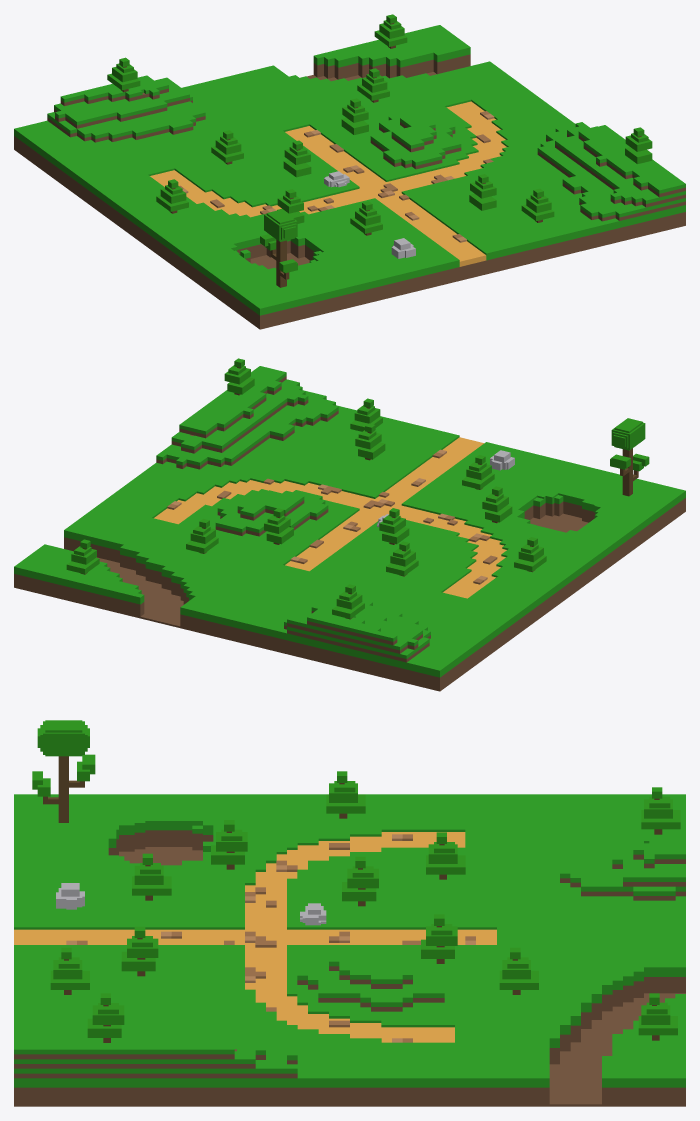
The model's file is background_village.glb.
The picture shows the model from 3 angles, top to bottom: view 1: azimuth 30°, elevation 25°; view 2: azimuth 150°, elevation 25°; view 3: azimuth 270°, elevation 25°; orthographic projection. The views are drawn at different scales.
Visible parts, largest first — view 1: Node; view 2: Node; view 3: Node.
Boxes of the visible parts, x1,y1,x2,y2 form: Node: [14, 14, 685, 329]; Node: [14, 358, 685, 691]; Node: [14, 720, 685, 1106].
Size of the model in its own units: 25.6 by 5.2 by 25.6.
Materials: 1 (1 with a texture image).
